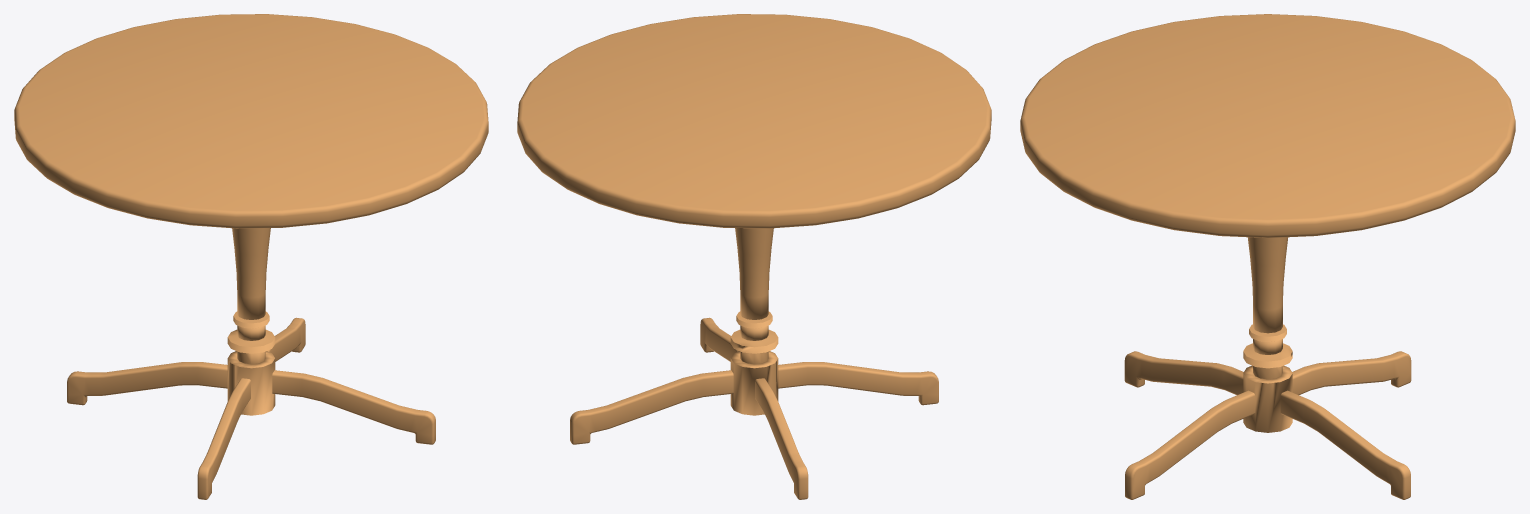
File: table.fbx
3 views of the same model, side by side, from view 1: azimuth 30°, elevation 25°; view 2: azimuth 150°, elevation 25°; view 3: azimuth 270°, elevation 25° (orthographic). The views are drawn at different scales.
Parts seen in each view (by area): view 1: Table; view 2: Table; view 3: Table.
Boxes of the visible parts, x1,y1,x2,y2 form: Table: [14, 14, 488, 499]; Table: [517, 14, 991, 499]; Table: [1020, 14, 1515, 499].
Bounding box in the file's own units: 100 × 71.99 × 100.
